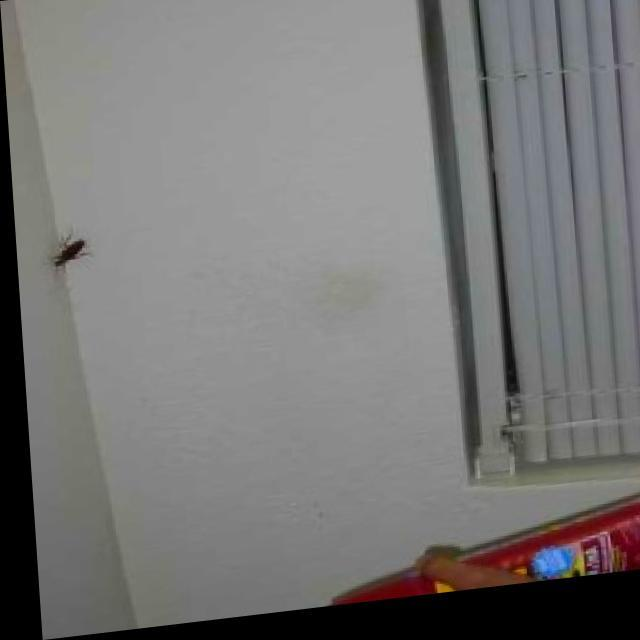cockroach: (47, 230, 91, 275)
